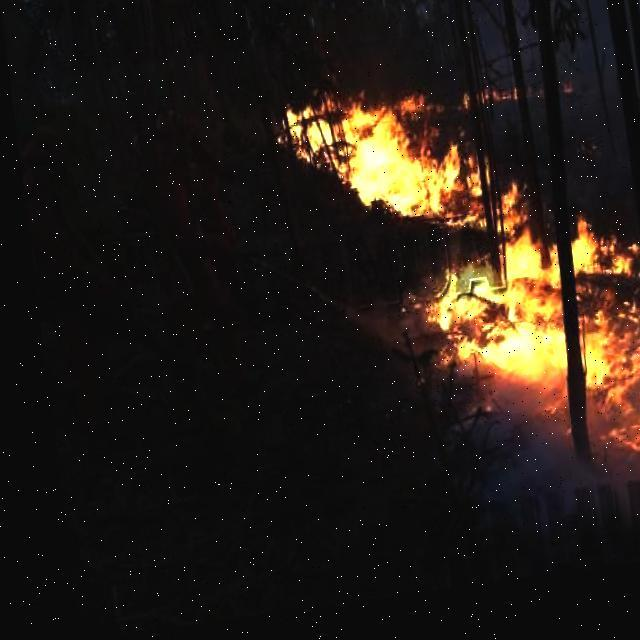Fire: (276, 53, 639, 512)
